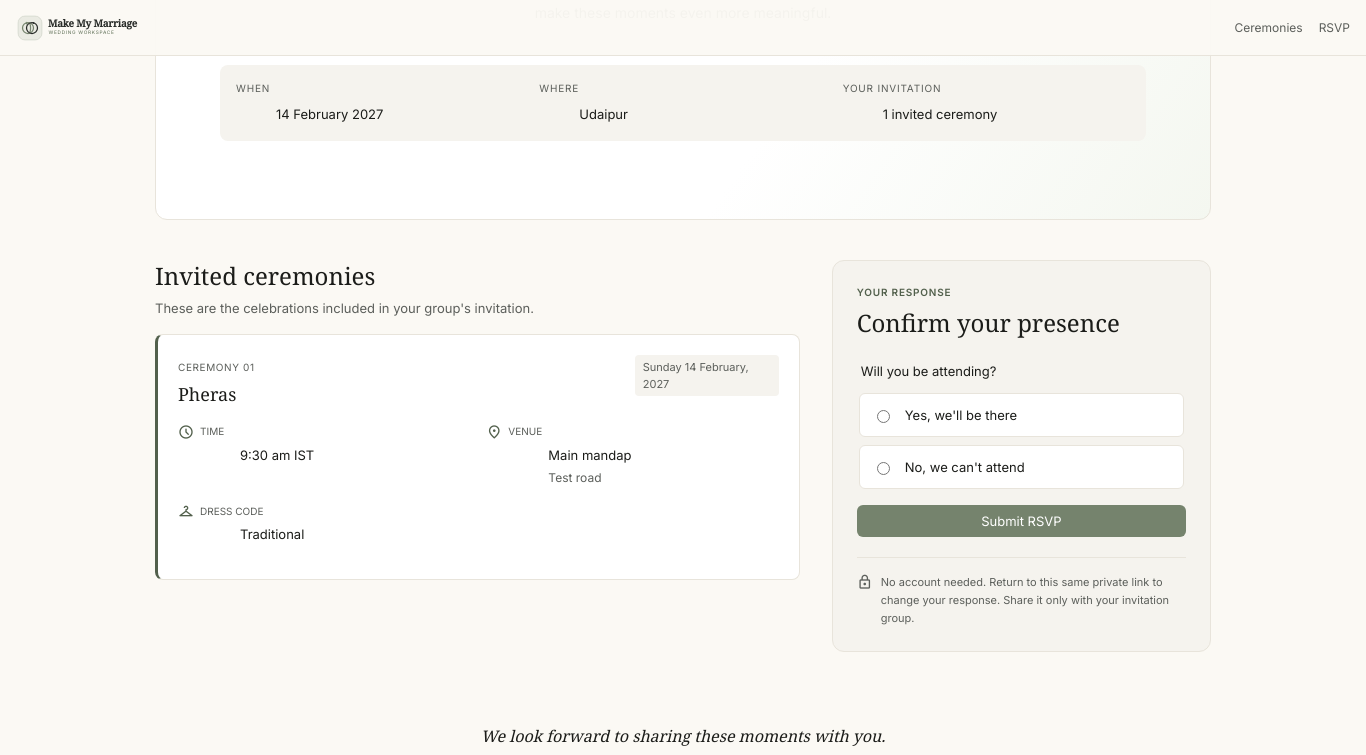
it: public invitation and RSVP › submits a total party count and allows changing to Not Attending
(page scrolled)
Click the radio button labelled "Yes, we'll be there". click: x=883, y=417
box: [877,410,890,423]
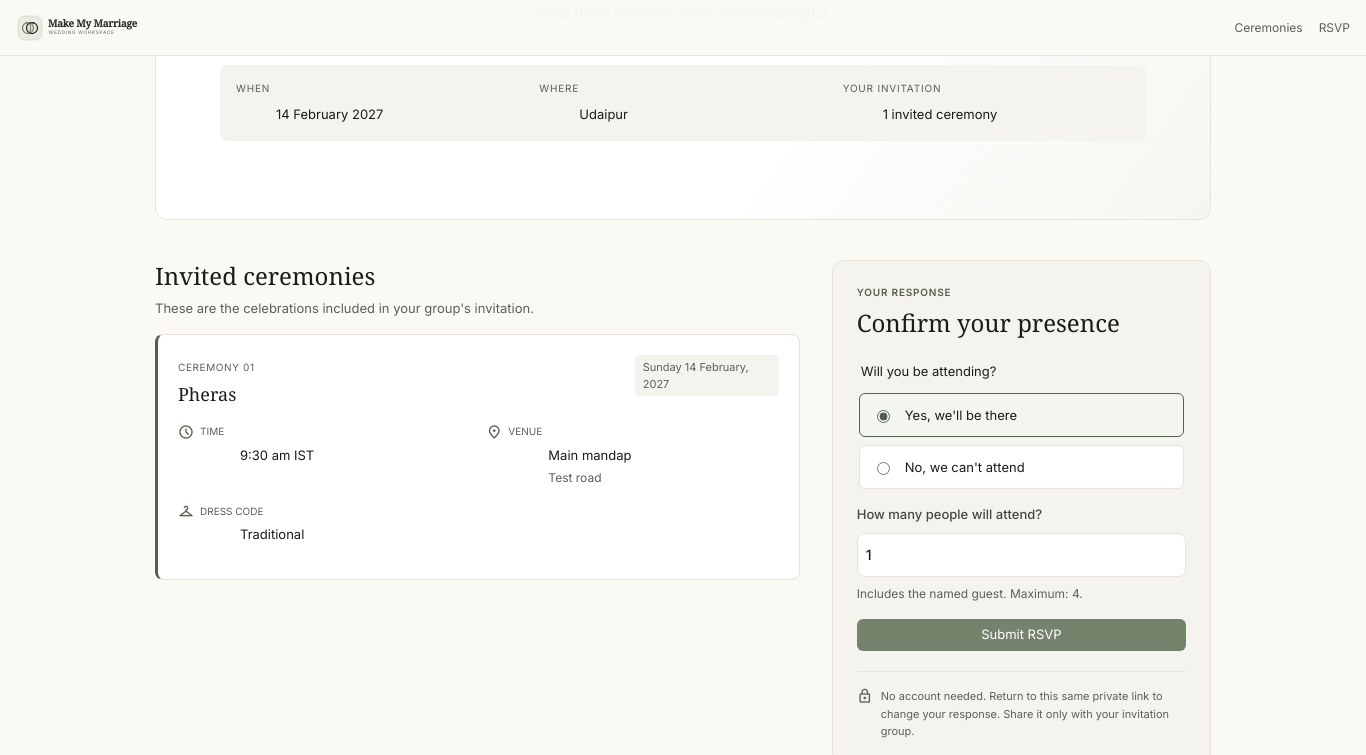
Replace the text in the number field labelled "How many people" with "3". click: x=1021, y=555
box: [857,533,1186,577]
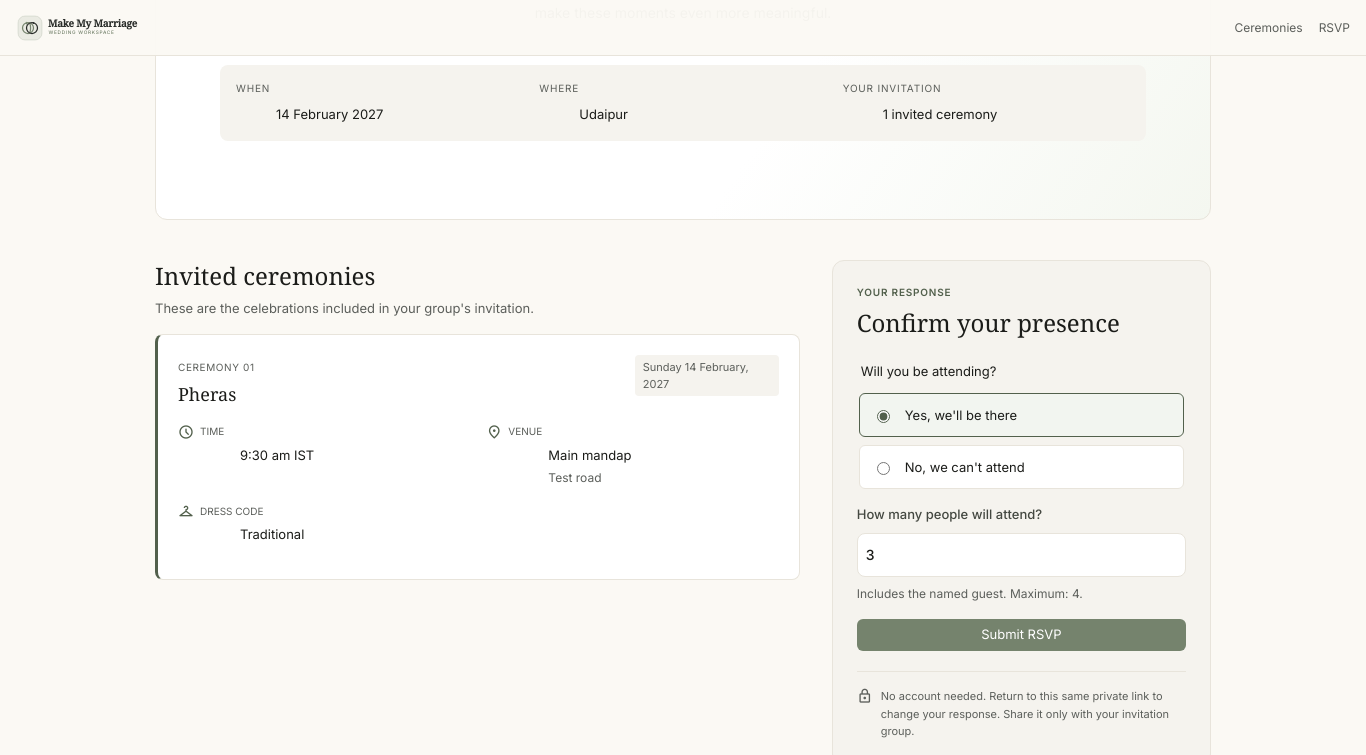
Click the button "Submit RSVP". click: x=1021, y=635
box: [857,619,1186,651]
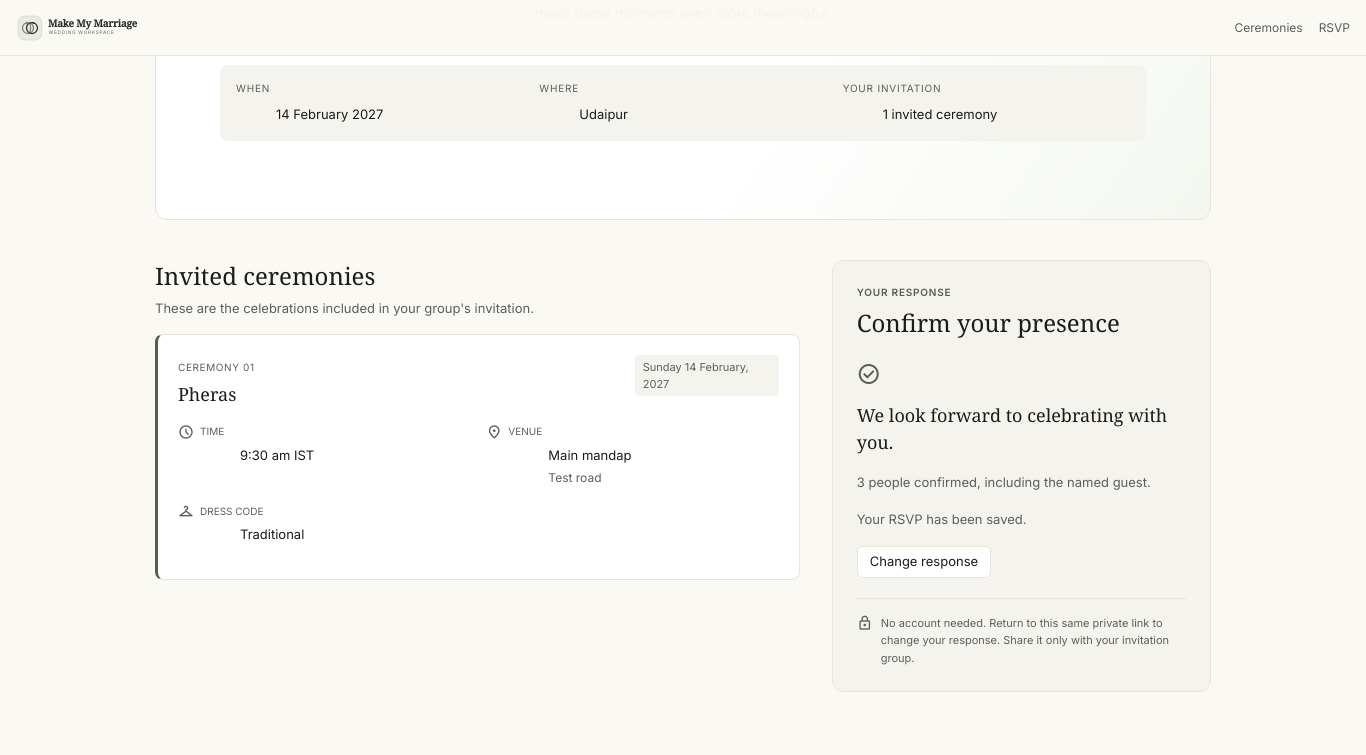
Expected: the button "Change response" is shown
Expected: the text "3 people confirmed, including the named guest." is shown, [857,472,1151,493]
Click the button "Change response". click: x=924, y=562
box: [857,546,991,578]
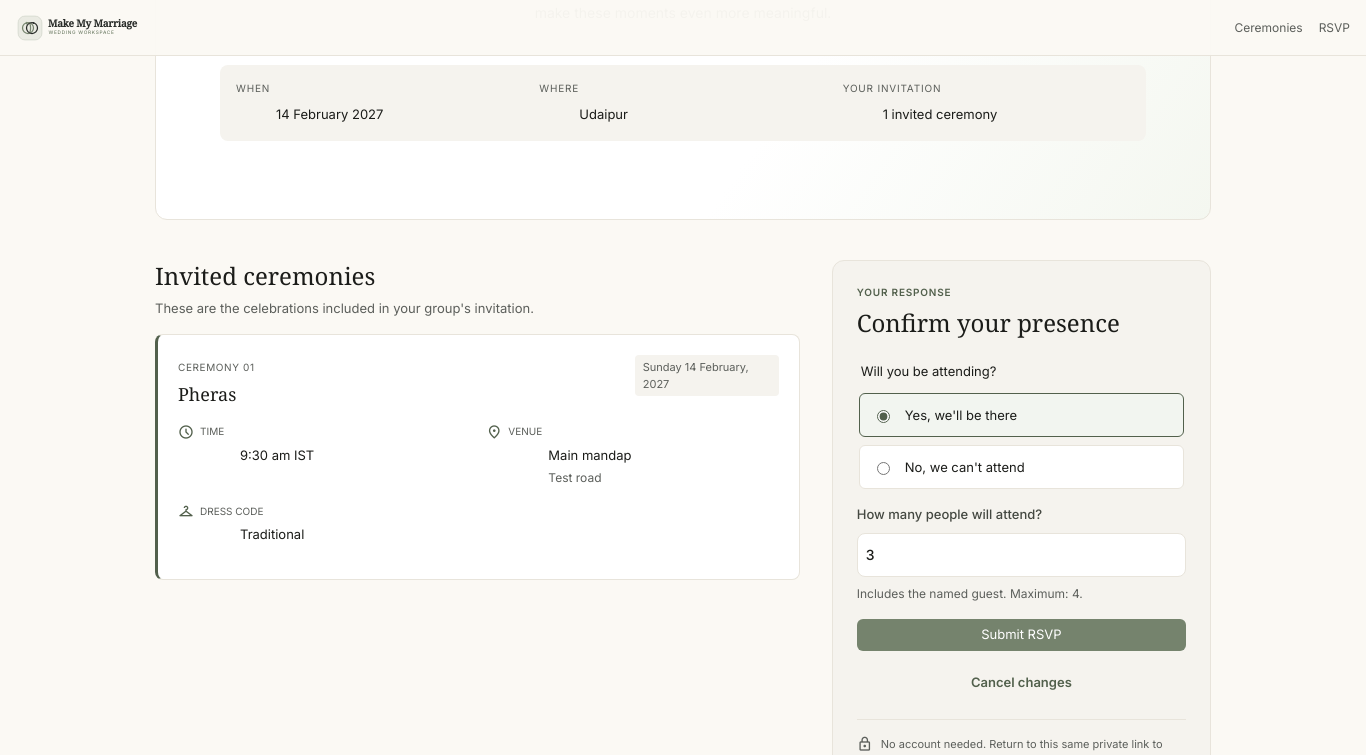
Click the radio button labelled "No, we can't attend". click: x=883, y=469
box: [877,462,890,475]
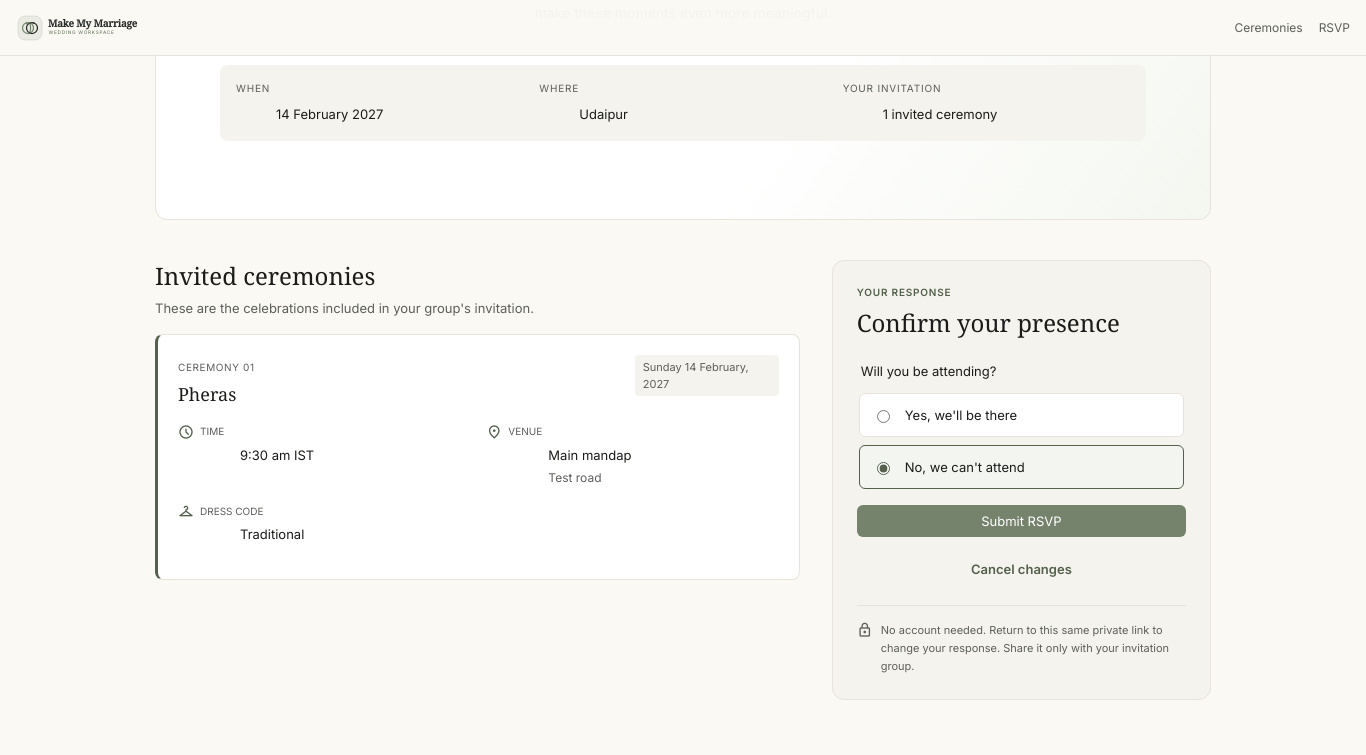
Click the button "Submit RSVP". click: x=1021, y=521
box: [857,505,1186,537]
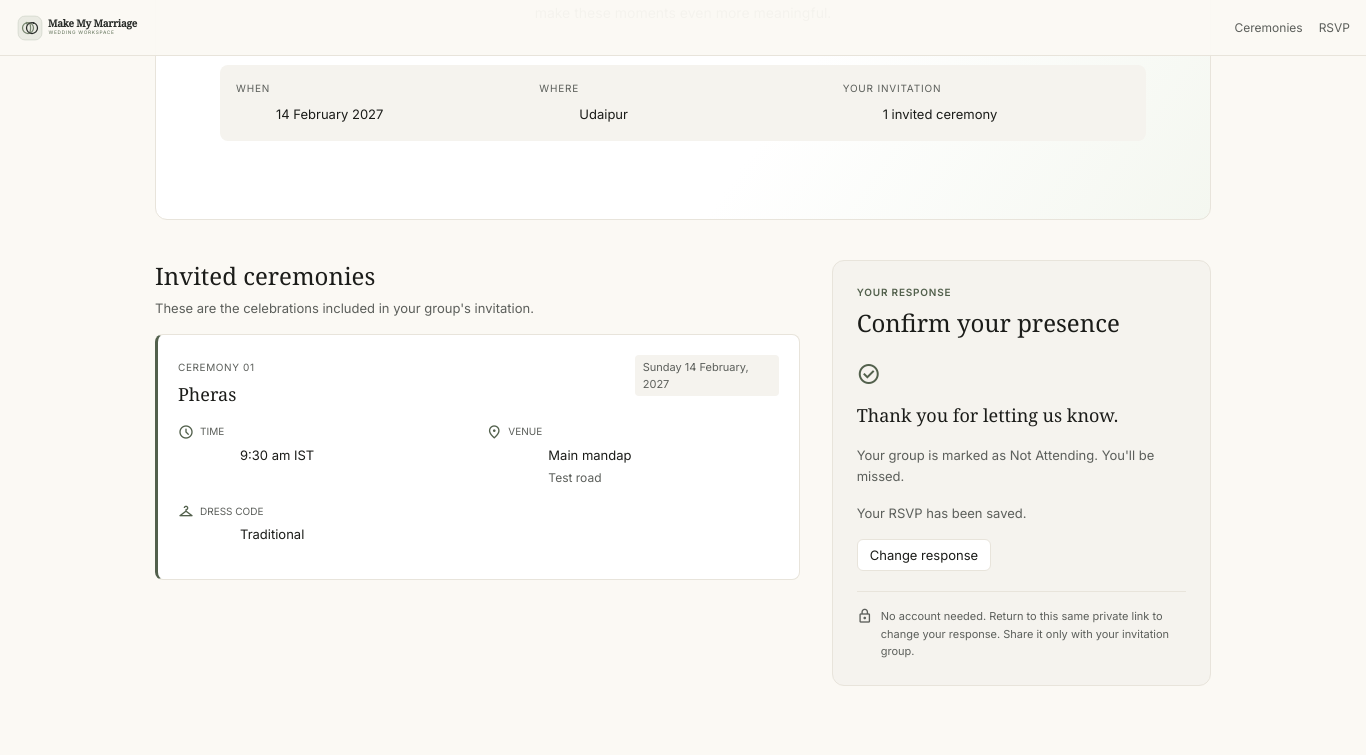
Expected: the heading "Pheras" is shown, [178,382,236,406]
Expected: the text "Your group is marked as Not Attending. You'll be missed." is shown, [857,445,1186,486]
